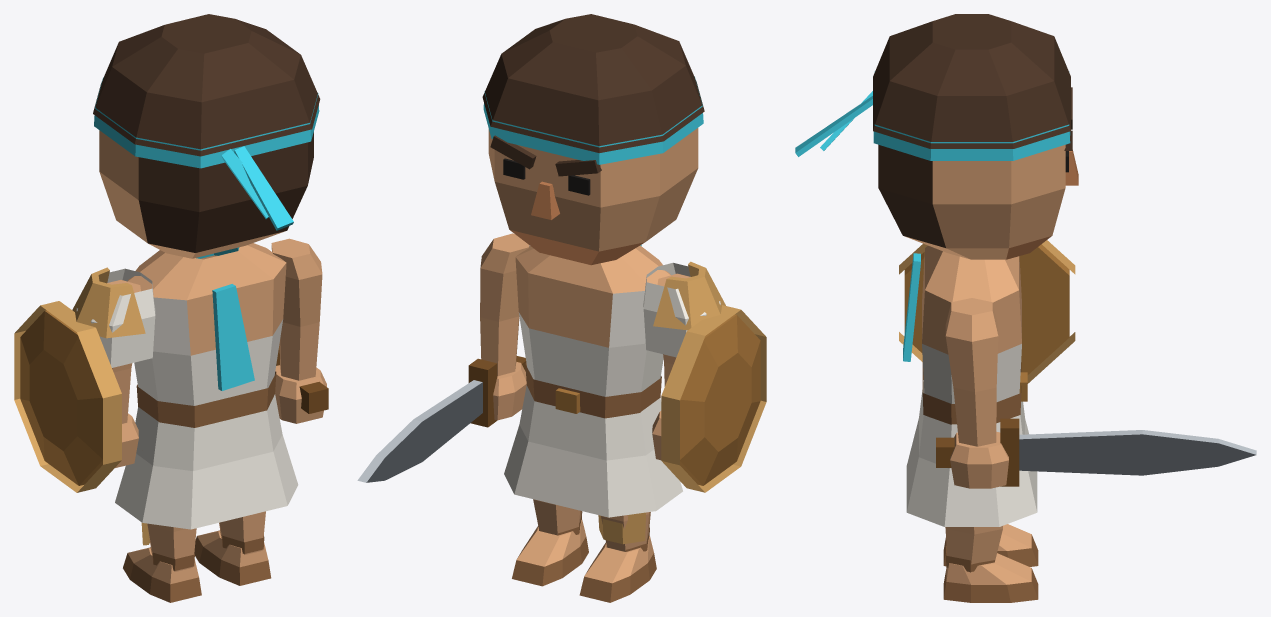
The model's file is CH_Nobody_Freedman.fbx.
3 views of the same model, side by side, from view 1: azimuth 30°, elevation 25°; view 2: azimuth 150°, elevation 25°; view 3: azimuth 270°, elevation 25° (orthographic). The views are drawn at different scales.
Visible parts, largest first — view 1: Head, Body, ArmL, ArmR, LegL, LegR; view 2: Head, Body, ArmL, ArmR, LegL, LegR; view 3: Head, Body, ArmR, ArmL, LegR, LegL.
Part boxes in pixels (x1,y1,x2,y2): Head: (93,14,320,258); Body: (115,243,298,529); ArmL: (14,267,155,492); ArmR: (271,238,328,423); LegL: (123,522,201,602); LegR: (194,511,271,585); Head: (482,14,704,265); Body: (504,245,682,517); ArmL: (643,261,766,492); ArmR: (357,233,529,482); LegL: (579,512,656,602); LegR: (512,499,588,586); Head: (795,14,1078,259); Body: (903,245,1037,526); ArmR: (936,298,1256,488); ArmL: (899,240,1075,383); LegR: (943,526,1038,602); LegL: (943,524,1038,566).
Bounding box in the file's own units: 0.797 × 1.22 × 1.58.
